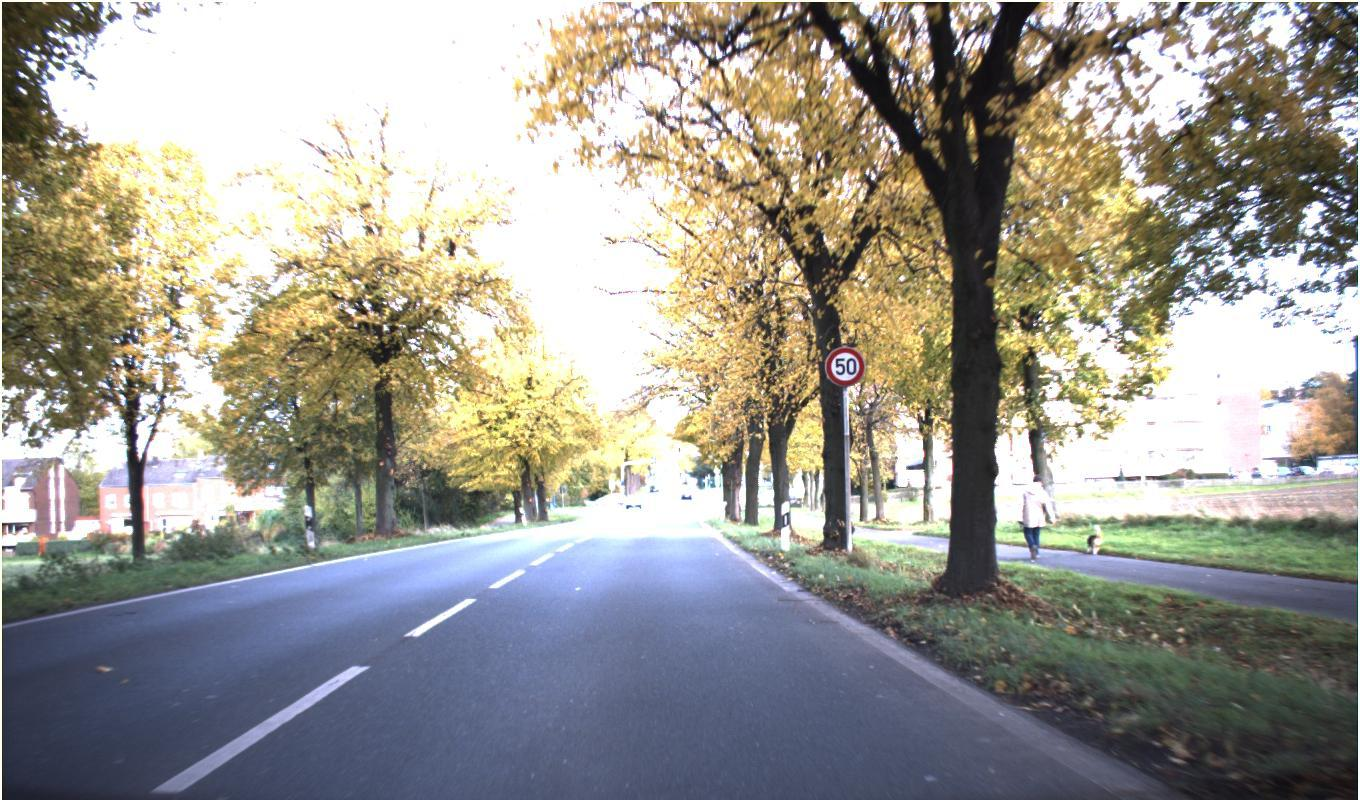speed limit 50 (prohibitory): (824, 345, 865, 386)
